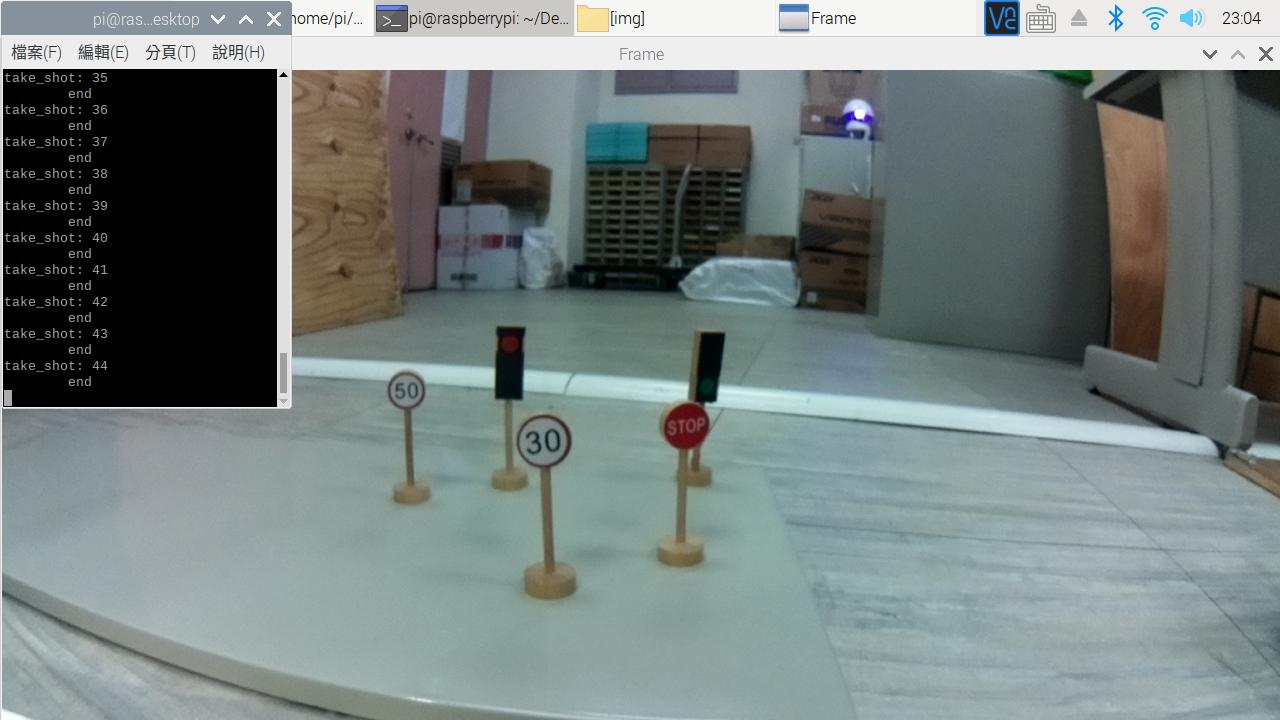Green: (694, 333, 728, 407)
Red: (492, 322, 532, 399)
Speed30: (512, 417, 583, 472)
Speed50: (385, 370, 427, 414)
Stop: (659, 398, 711, 456)
